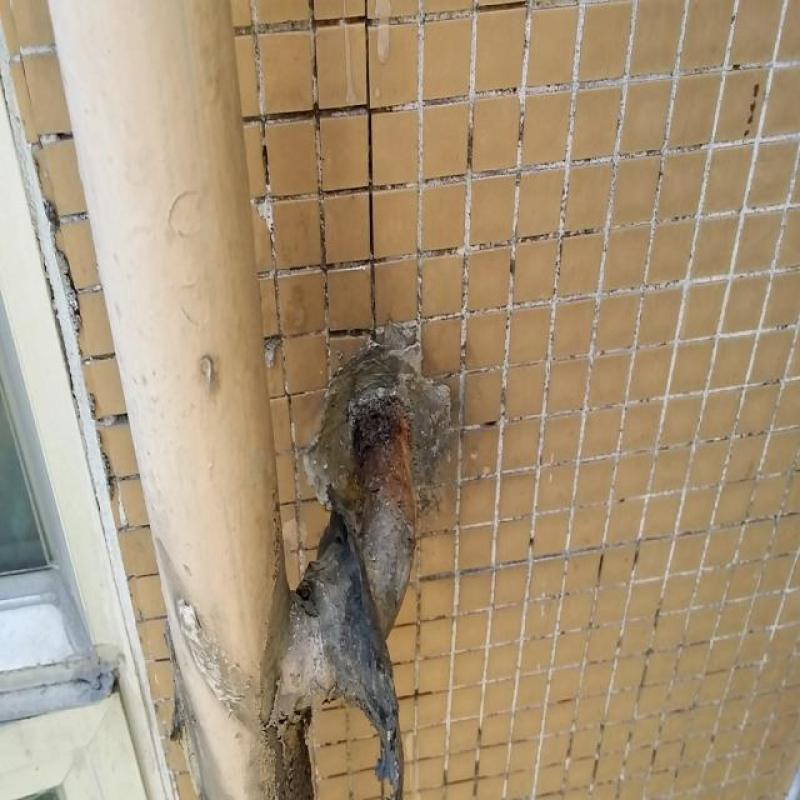Fracture: (277, 345, 455, 727)
